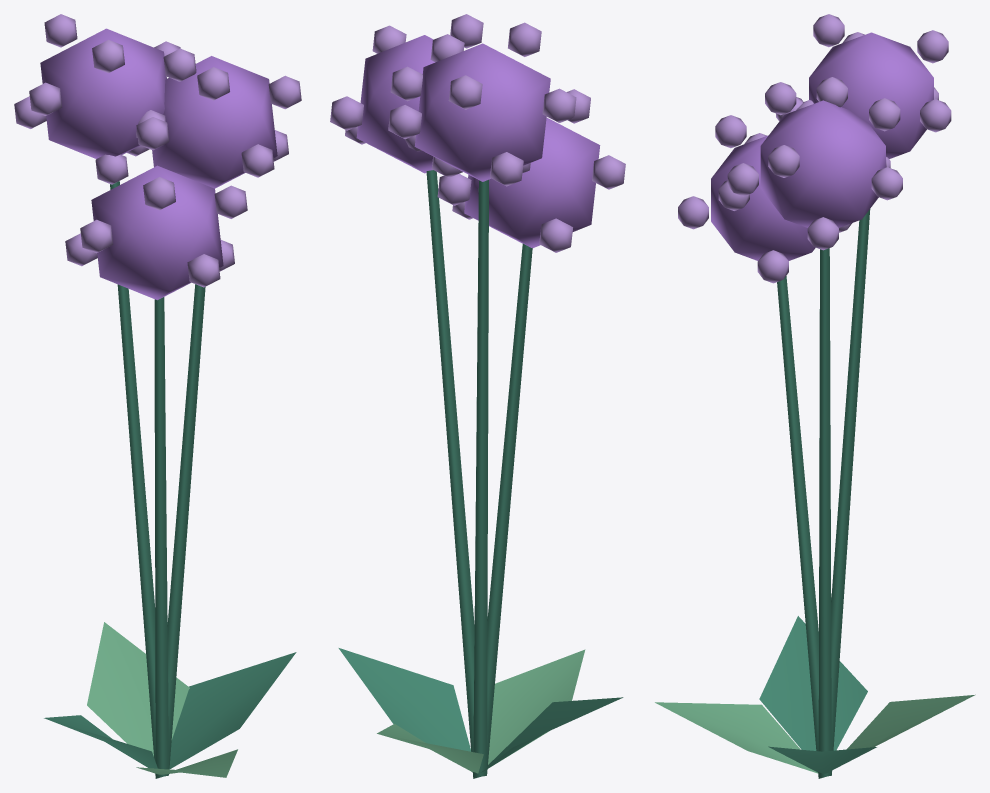
Rendered from allium.glb.
3 renders of one model, left to right at view 1: azimuth 30°, elevation 25°; view 2: azimuth 150°, elevation 25°; view 3: azimuth 270°, elevation 25°, orthographic. The views are drawn at different scales.
Visible parts, largest first — view 1: allium; view 2: allium; view 3: allium.
Boxes of the visible parts, left/top/right/bottom form: allium: left=14, top=14, right=301, bottom=778; allium: left=330, top=14, right=625, bottom=778; allium: left=655, top=14, right=975, bottom=778.
Size of what is drawn, in the model's own units: 0.3728 by 1 by 0.3951.
